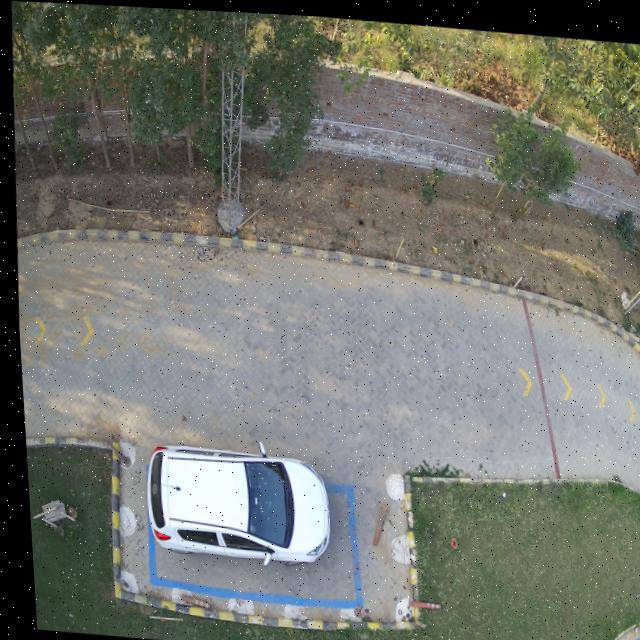car: (147, 529, 163, 539)
